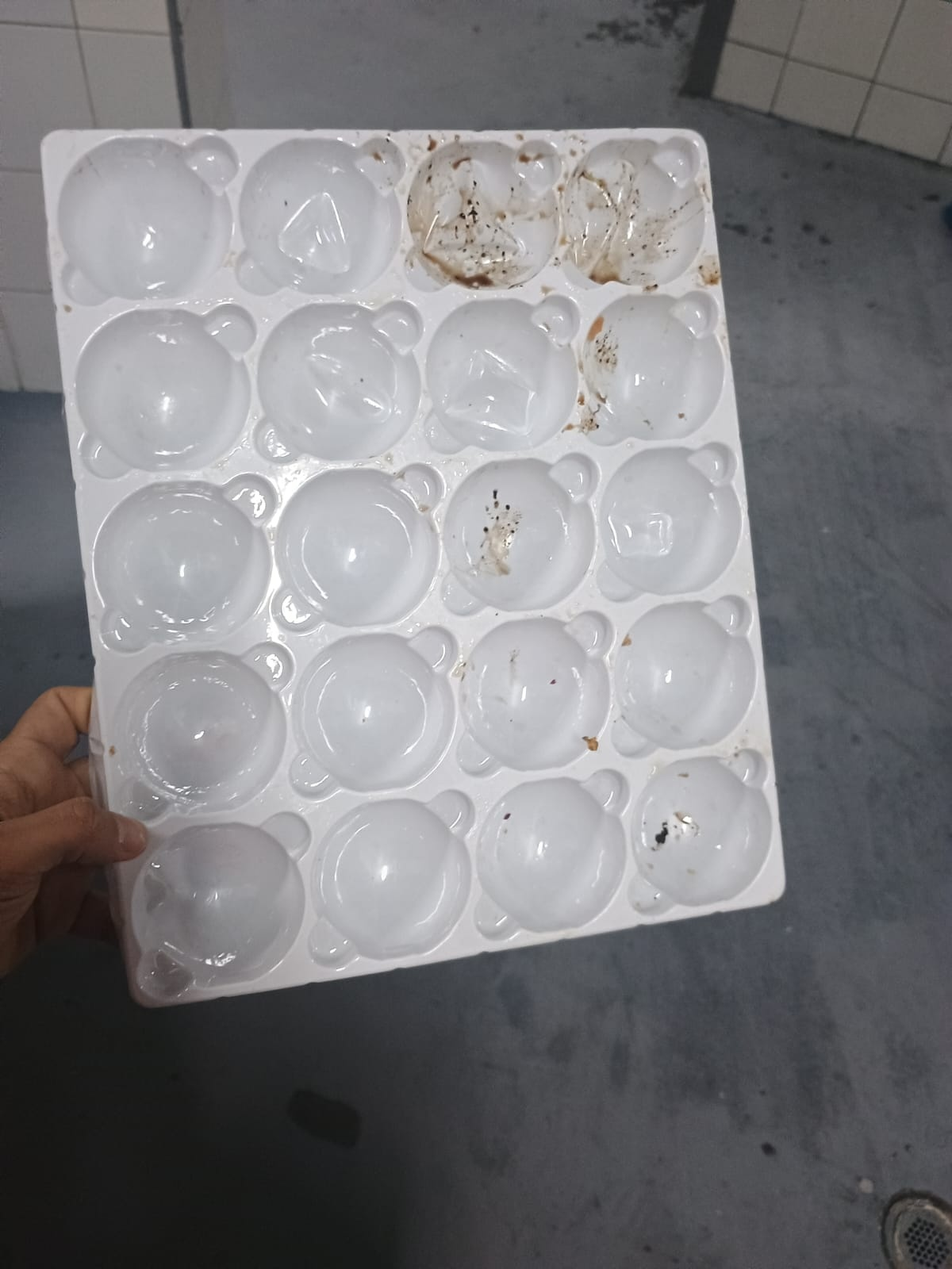Ordinario: (41, 126, 790, 1012)
